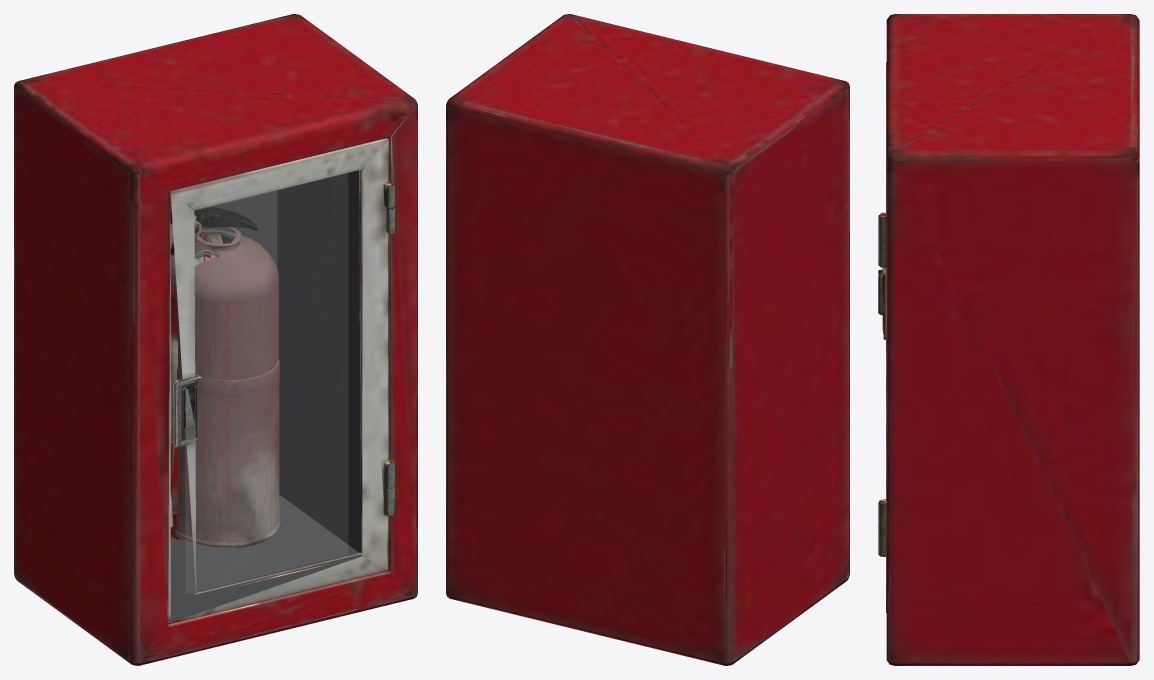
The model's file is p7-fire-extinguisher-cabinet-t25.glb.
3 renders of one model, left to right at view 1: azimuth 30°, elevation 25°; view 2: azimuth 150°, elevation 25°; view 3: azimuth 270°, elevation 25°, orthographic. The views are drawn at different scales.
Parts seen in each view (by area): view 1: body, interior, extinguisher; view 2: body; view 3: body.
Part boxes in pixels (x1,y1,x2,y2): body: [14, 14, 417, 665]; interior: [170, 170, 361, 620]; extinguisher: [170, 198, 258, 540]; body: [446, 14, 849, 665]; body: [878, 14, 1139, 665].
Size of the model in its own units: 0.45 by 0.75 by 0.346.
Materials: 4 (3 with a texture image).
